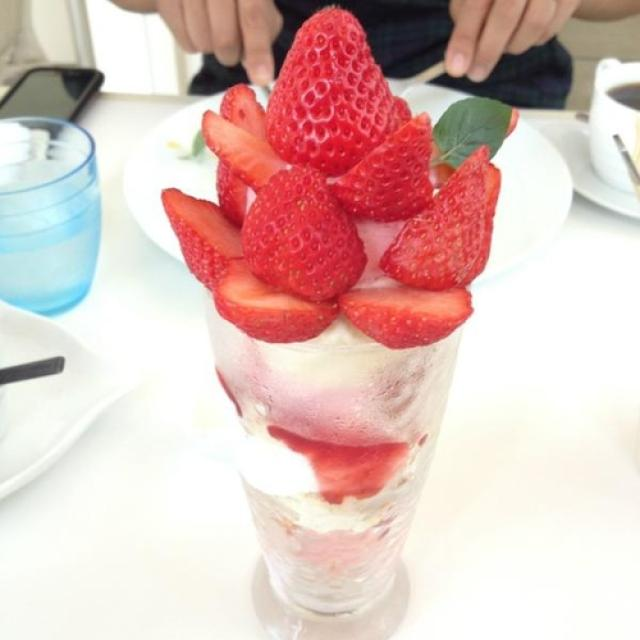蛋糕甜品: (97, 8, 553, 623)
